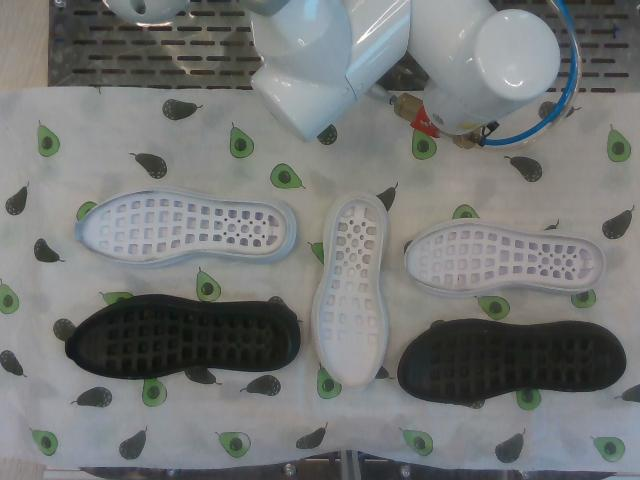shoes: (66, 304, 289, 377), (401, 330, 625, 401), (76, 190, 287, 263), (406, 223, 604, 291), (319, 199, 385, 389)
